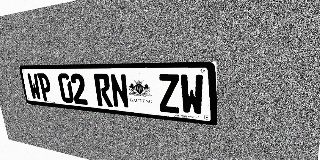0: (57, 73, 74, 104)
2: (70, 73, 88, 105)
N: (109, 74, 130, 109)
P: (37, 73, 53, 102)
R: (93, 74, 113, 107)
W: (180, 74, 204, 116), (27, 73, 42, 100)
Z: (157, 74, 181, 114)
